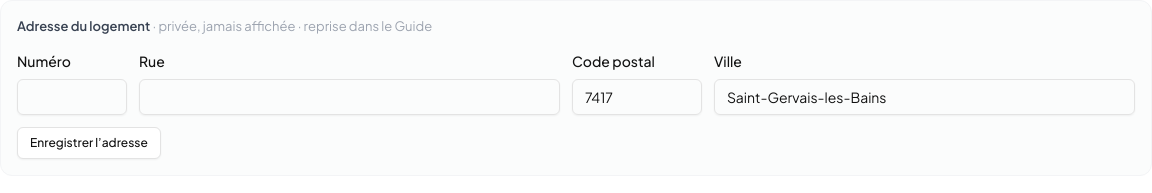
080 AC-03-02 — saisie de l’adresse dans Caractéristiques › shows the API validation message
This screenshot has width=1152, height=193.
What coordinates should you click on to do the following:
click the button "Enregistrer l’adresse"
I would click on:
 (89, 142)
Its box is [17,126,161,158].
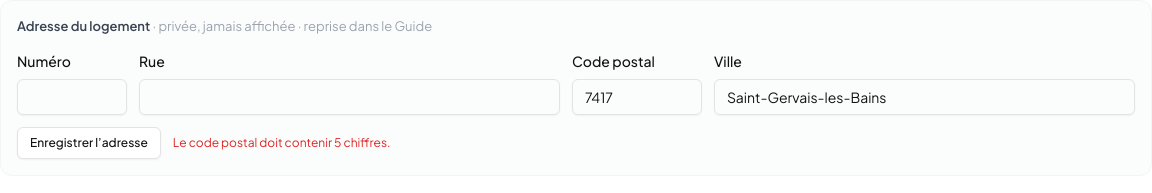
Expected: the message reads "Le code postal doit contenir 5 chiffres.", [173,134,390,150]
